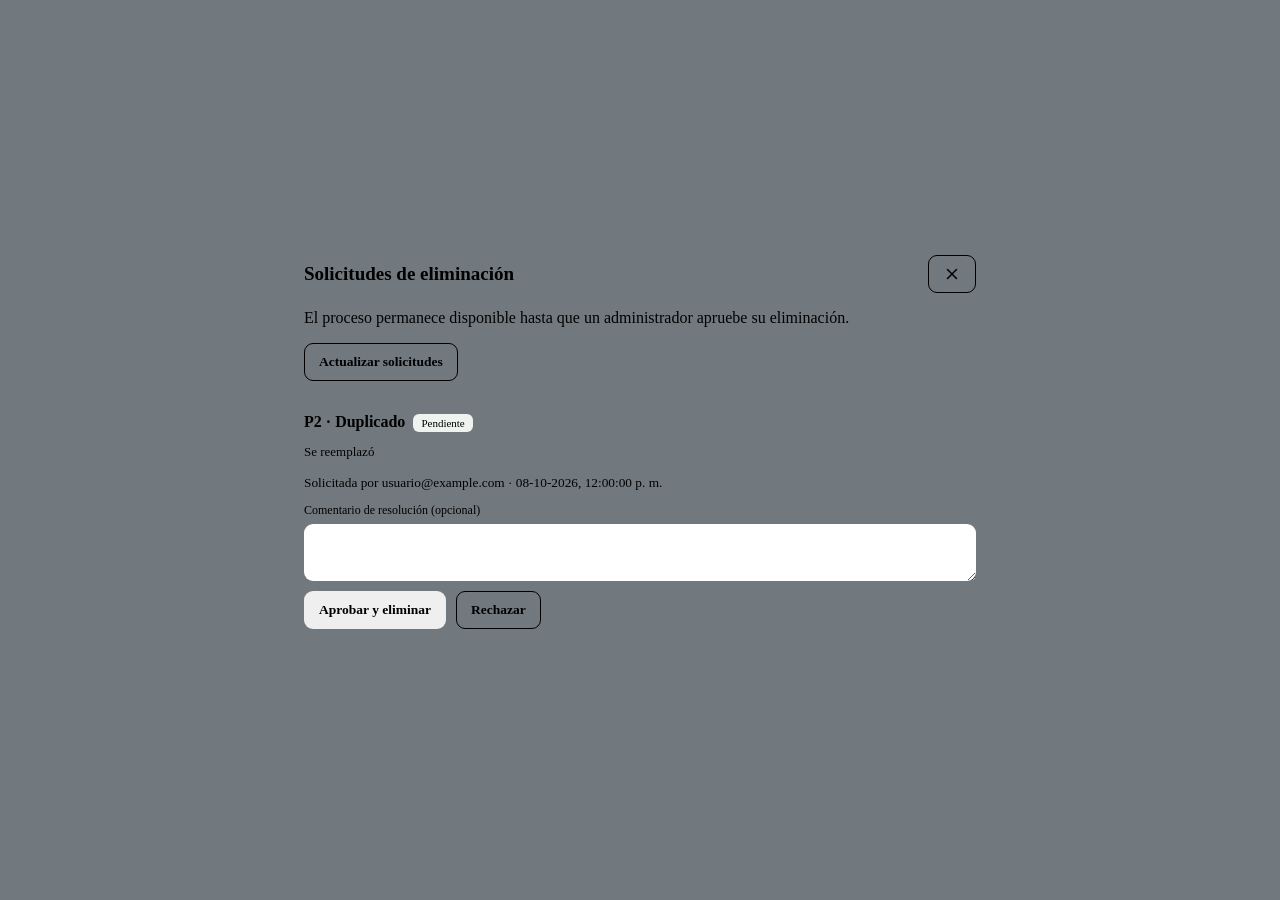
Test: Bandeja de solicitudes de eliminación › rechaza con comentario conservando el proceso
Type "Se necesita conservar" into the text box.
click(640, 552); type("Se necesita conservar")  # box x1=304 y1=524 x2=976 y2=581
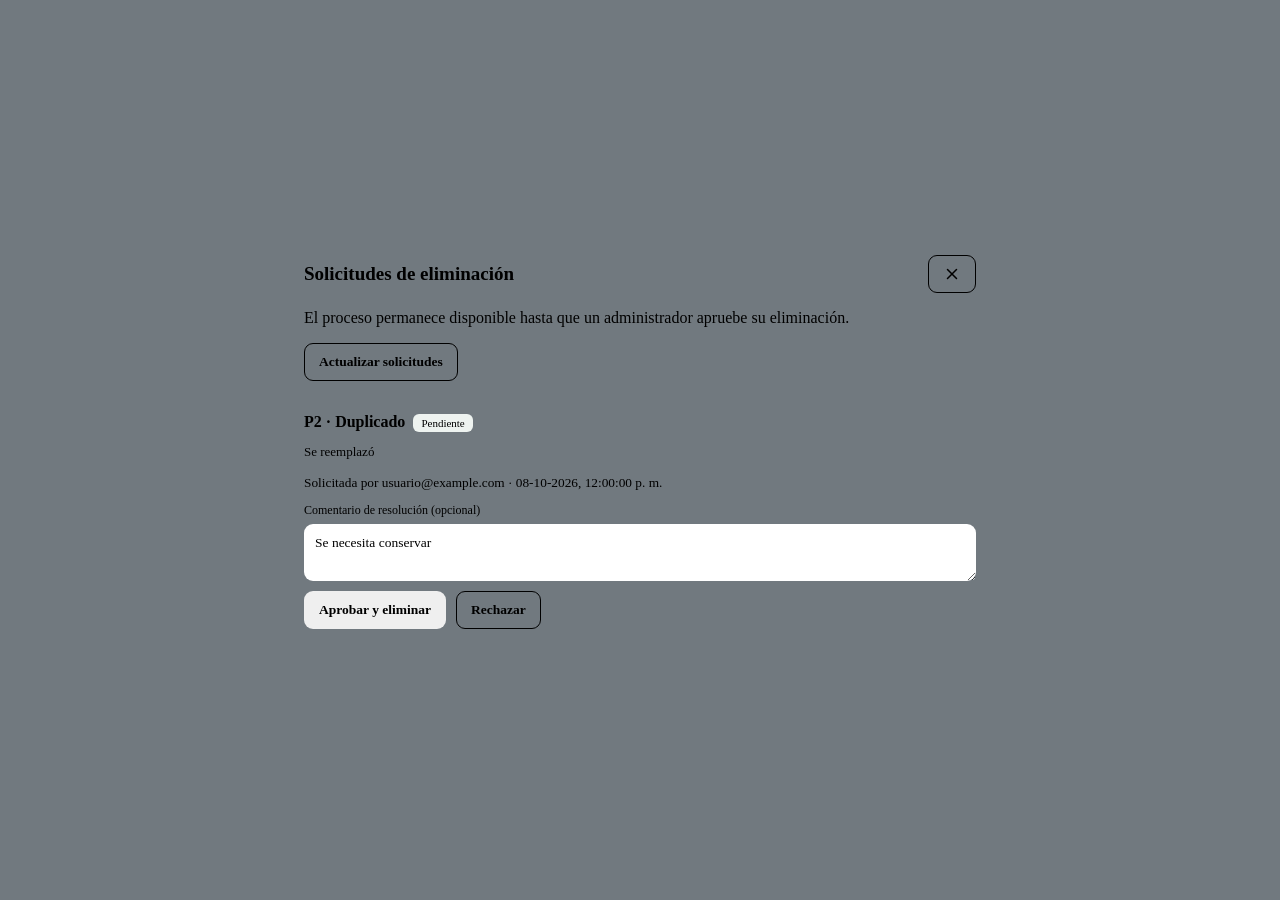
Click the button "Rechazar".
click(498, 610)  # box x1=456 y1=591 x2=541 y2=629
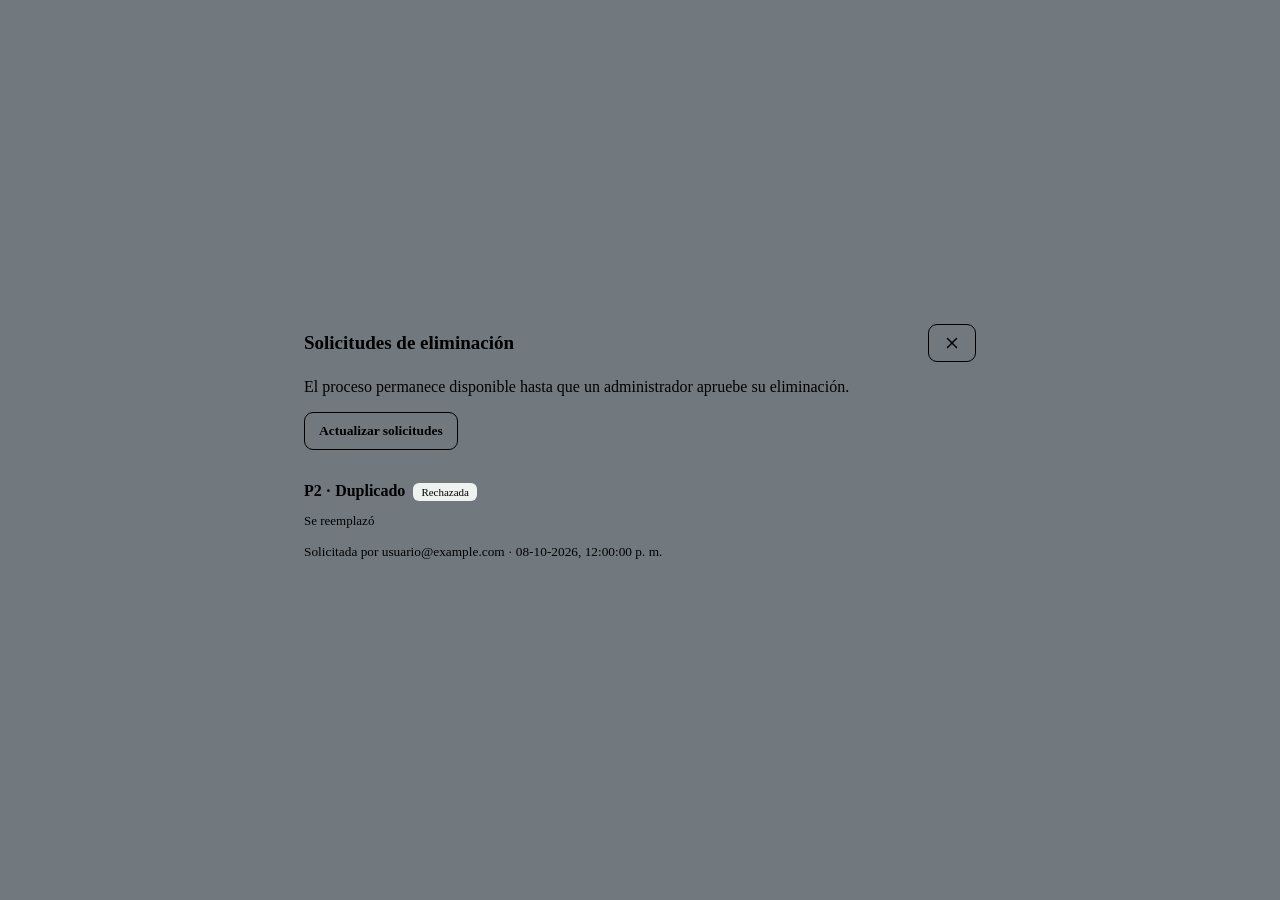
expect the text "Rechazada" is shown: met, box x1=413 y1=483 x2=477 y2=501
